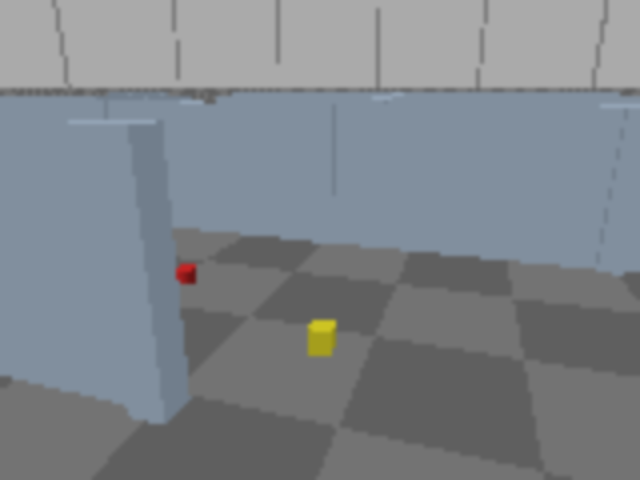puck: (307, 318, 336, 357), (177, 264, 196, 285)
